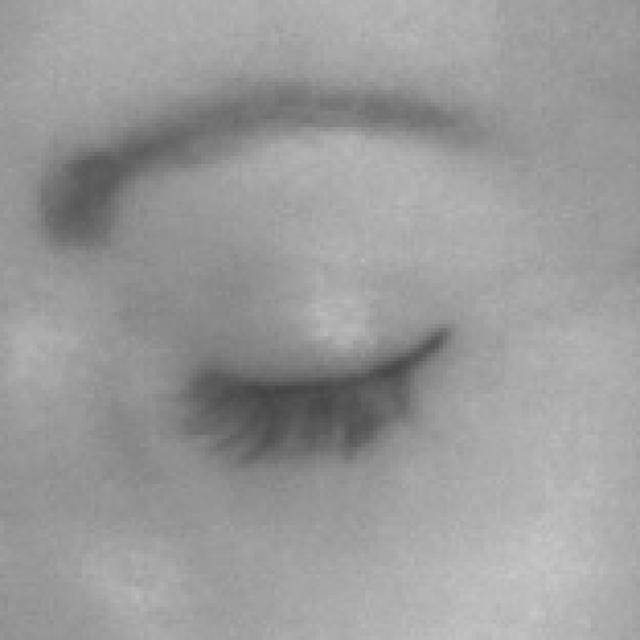close: (17, 72, 581, 512)
